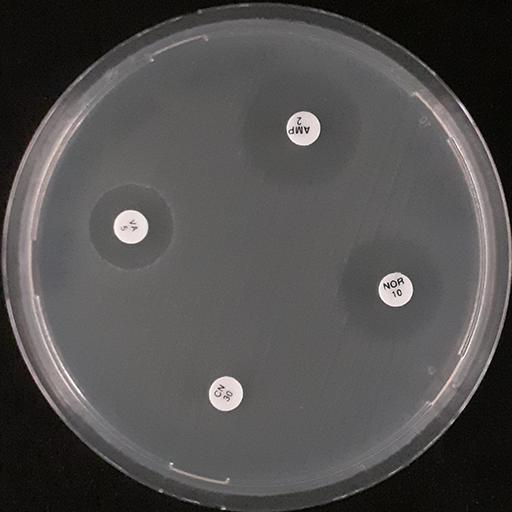disc: (378, 273, 413, 308), (286, 111, 321, 146), (209, 377, 243, 412), (114, 210, 148, 245)
